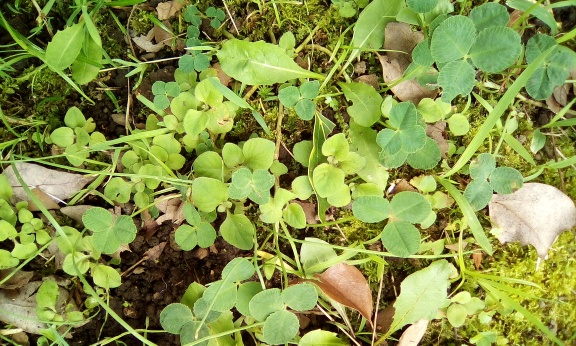4leaf: (226, 168, 276, 205)
